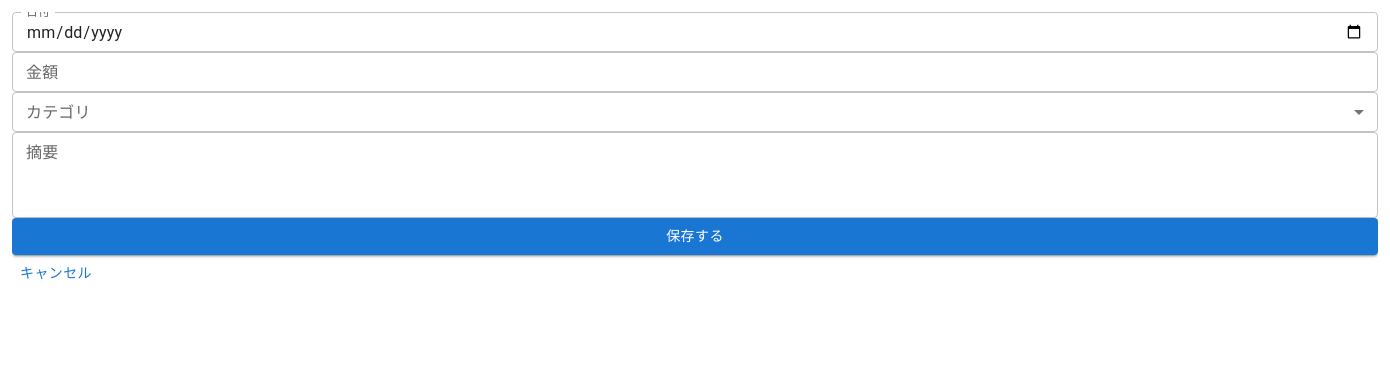
Scenario: ItemForm › ITM-FE-028: 日付を未入力で保存押下すると「日付を入力してください」エラーが表示される
# 保存ボタン押下（ITM-FE-028）。スタブ実装のため現在は失敗する。
Click the button "保存する". click: (695, 236)
box: [12, 218, 1378, 254]
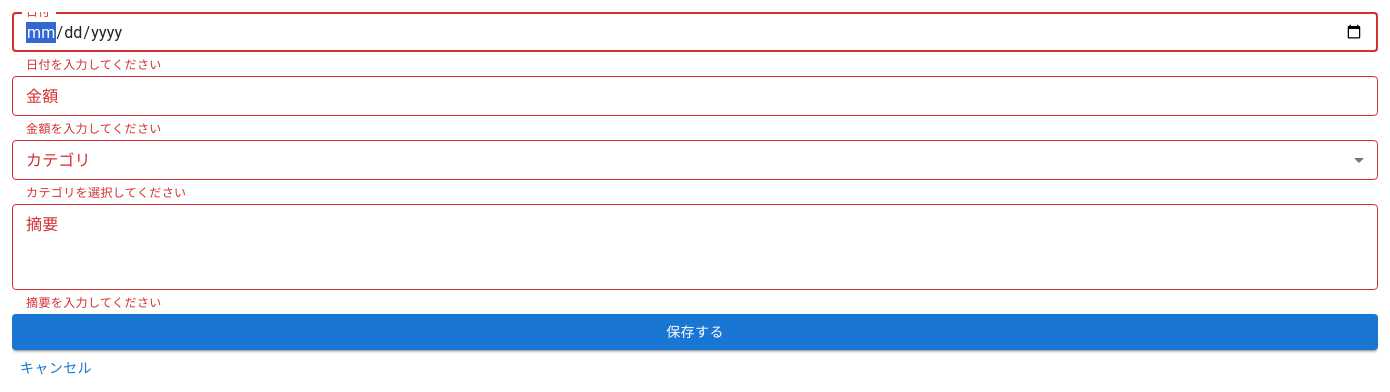
Expected: the text "日付を入力してください" is shown, [26, 58, 162, 72]
